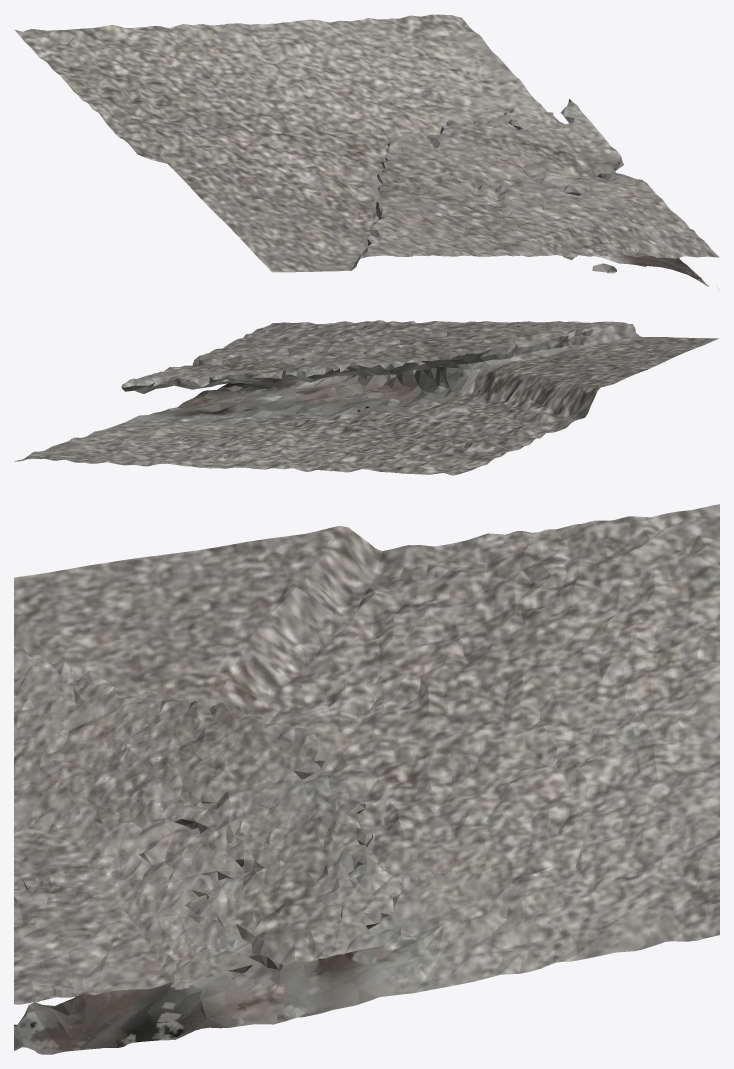
The picture shows the model from 3 angles, top to bottom: view 1: azimuth 30°, elevation 25°; view 2: azimuth 150°, elevation 25°; view 3: azimuth 270°, elevation 25°; orthographic projection. The views are drawn at different scales.
Size of the model in its own units: 0.8374 by 0.3301 by 0.8374.
4 materials, 4 textured.
